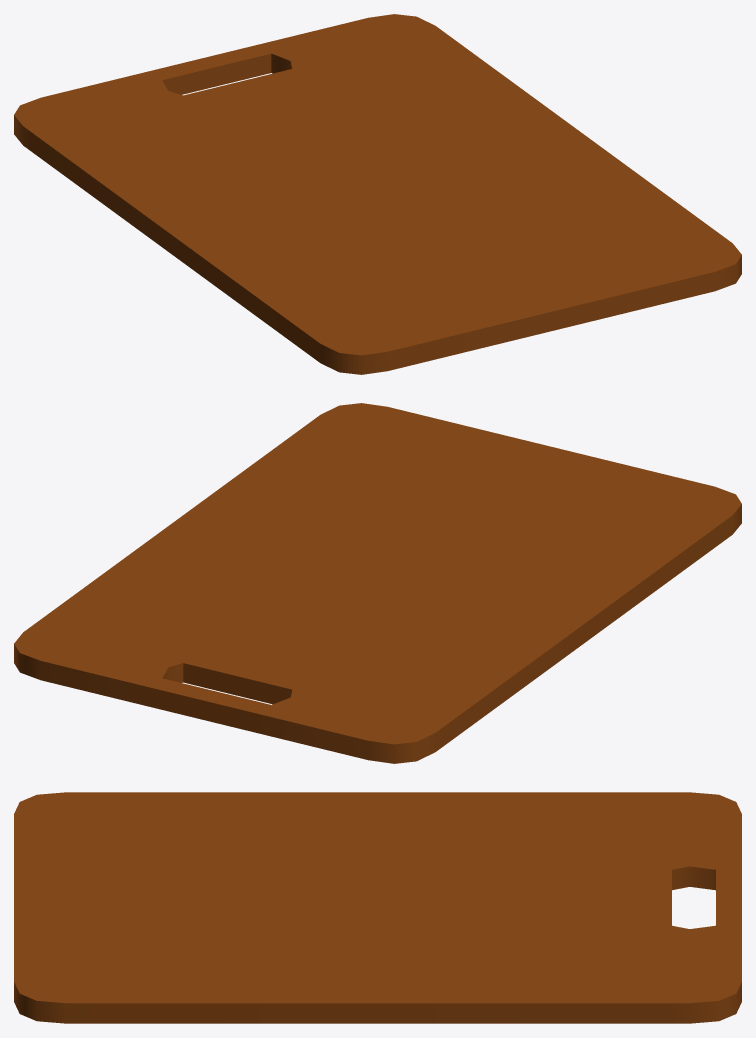
The model's file is CuttingBoard.FBX.
3 renders of one model, top to bottom at view 1: azimuth 30°, elevation 25°; view 2: azimuth 150°, elevation 25°; view 3: azimuth 270°, elevation 25°, orthographic. The views are drawn at different scales.
Visible parts, largest first — view 1: CuttingBoard; view 2: CuttingBoard; view 3: CuttingBoard.
Boxes of the visible parts, <box> form: CuttingBoard: <box>14,14,741,374</box>; CuttingBoard: <box>14,403,741,763</box>; CuttingBoard: <box>14,792,741,1023</box>.
Bounding box in the file's own units: 81.14 × 3.66 × 118.
